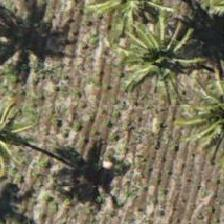coconut_tree: (121, 14, 211, 104)
